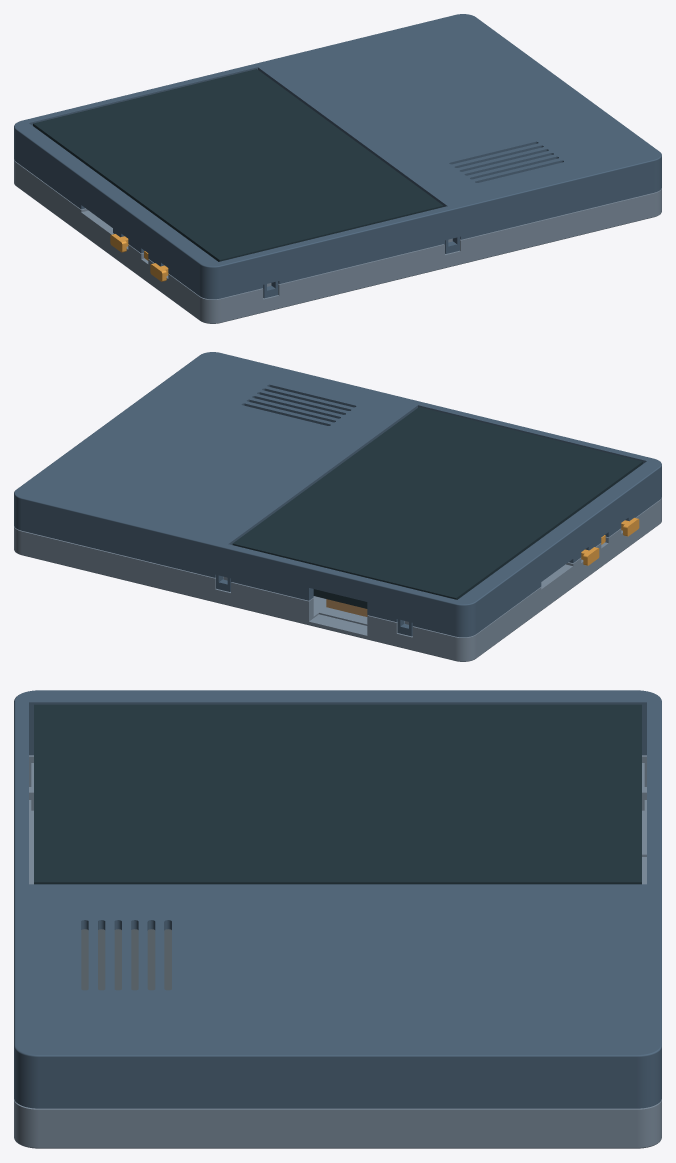
Rendered from assembly_light_12_4mm.glb.
The picture shows the model from 3 angles, top to bottom: view 1: azimuth 30°, elevation 25°; view 2: azimuth 150°, elevation 25°; view 3: azimuth 270°, elevation 25°; orthographic projection. The views are drawn at different scales.
Visible parts, largest first — view 1: FRONT_T0_FLUSH, DISPLAY_ENVELOPE_NOT_DETAIL, REAR_T0_1_2mm; view 2: FRONT_T0_FLUSH, DISPLAY_ENVELOPE_NOT_DETAIL, REAR_T0_1_2mm; view 3: FRONT_T0_FLUSH, DISPLAY_ENVELOPE_NOT_DETAIL, REAR_T0_1_2mm, SPEAKER_UNVERIFIED.
Boxes of the visible parts, x1,y1,x2,y2 form: FRONT_T0_FLUSH: (14, 14, 661, 299); DISPLAY_ENVELOPE_NOT_DETAIL: (33, 69, 443, 261); REAR_T0_1_2mm: (14, 159, 661, 323); FRONT_T0_FLUSH: (14, 352, 661, 637); DISPLAY_ENVELOPE_NOT_DETAIL: (232, 407, 642, 608); REAR_T0_1_2mm: (14, 497, 661, 661); FRONT_T0_FLUSH: (14, 690, 661, 1108); DISPLAY_ENVELOPE_NOT_DETAIL: (34, 704, 641, 884); REAR_T0_1_2mm: (14, 755, 661, 1148); SPEAKER_UNVERIFIED: (81, 929, 171, 990).
Bounding box in the file's own units: 0.1059 × 0.0124 × 0.0779.
